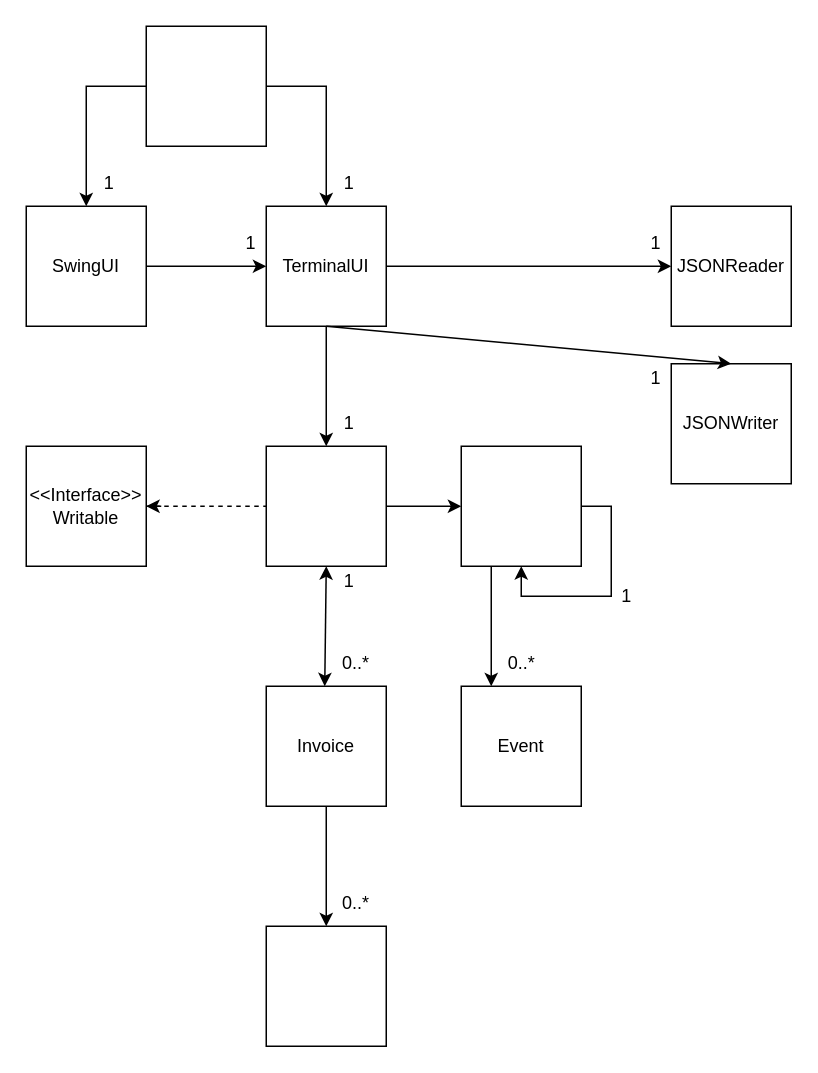
The diagram is 818 pixels wide and 1073 high, and some of its shapes have lost their labels. Each missing label, with the box of its shape:
App: (265, 445, 386, 566)
EventLog: (460, 445, 581, 566)
InvoiceLineItem: (265, 925, 386, 1046)
Main: (145, 25, 266, 146)
